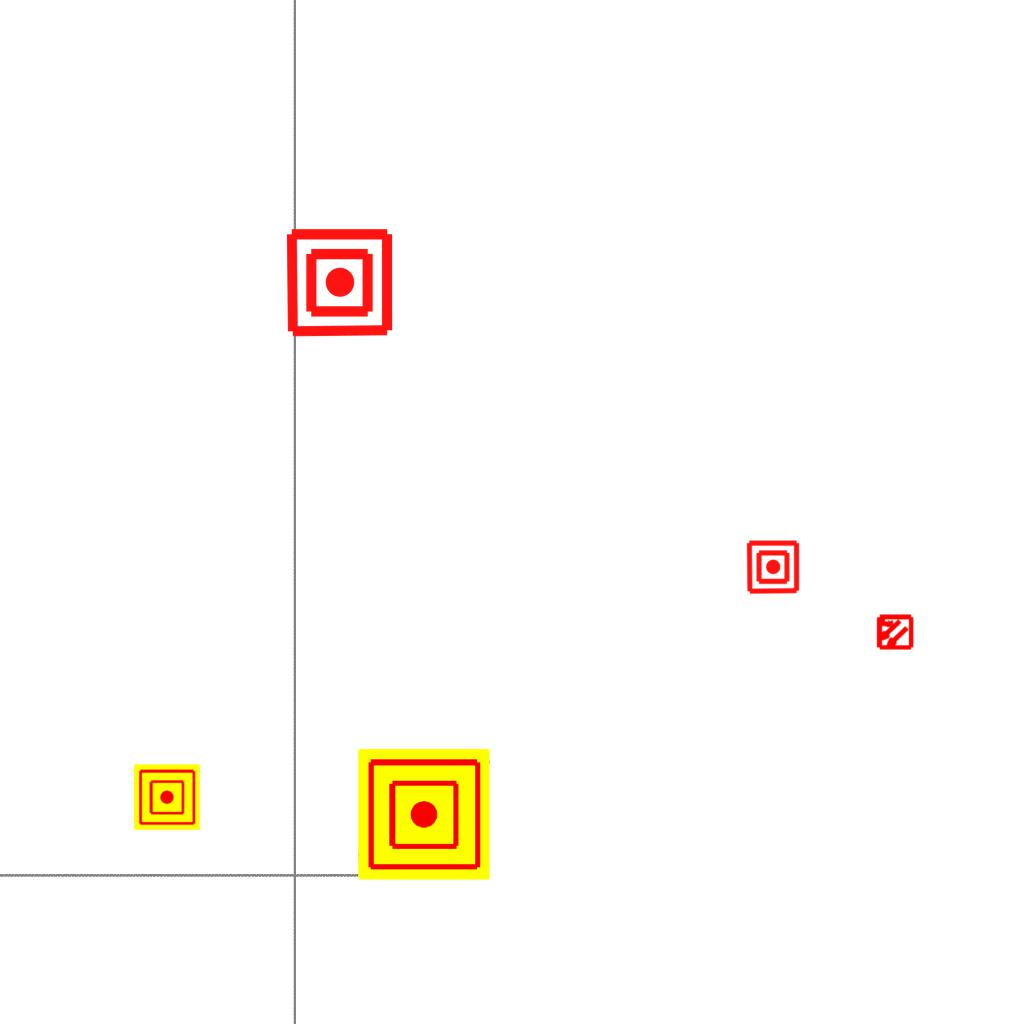NAM-Nichtautomatischer_Melder: (358, 748, 490, 880), (283, 226, 396, 339), (134, 764, 200, 830), (745, 539, 801, 595)
OT_Multisensormelder_(Kombination_RMO_WMD): (866, 604, 922, 660)
